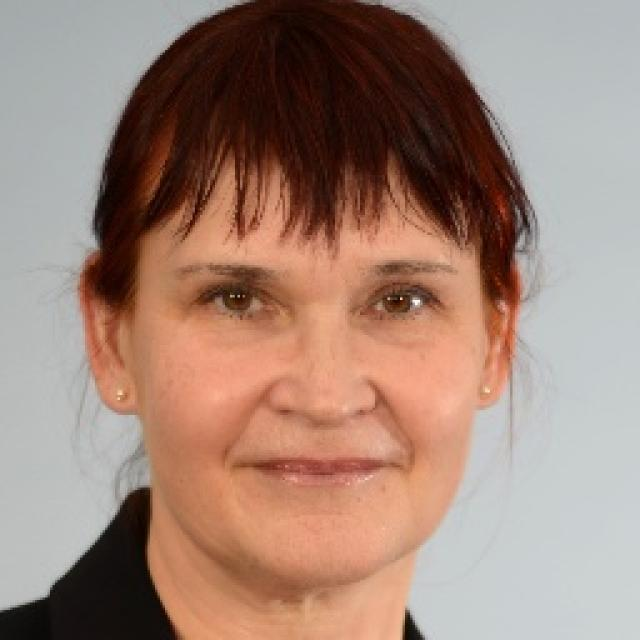earlobe: (99, 364, 142, 416), (476, 371, 507, 411)
eye: (202, 285, 278, 319), (364, 288, 428, 322)
nose: (273, 411, 377, 448)
wholeear: (76, 251, 142, 416), (476, 260, 524, 411)
